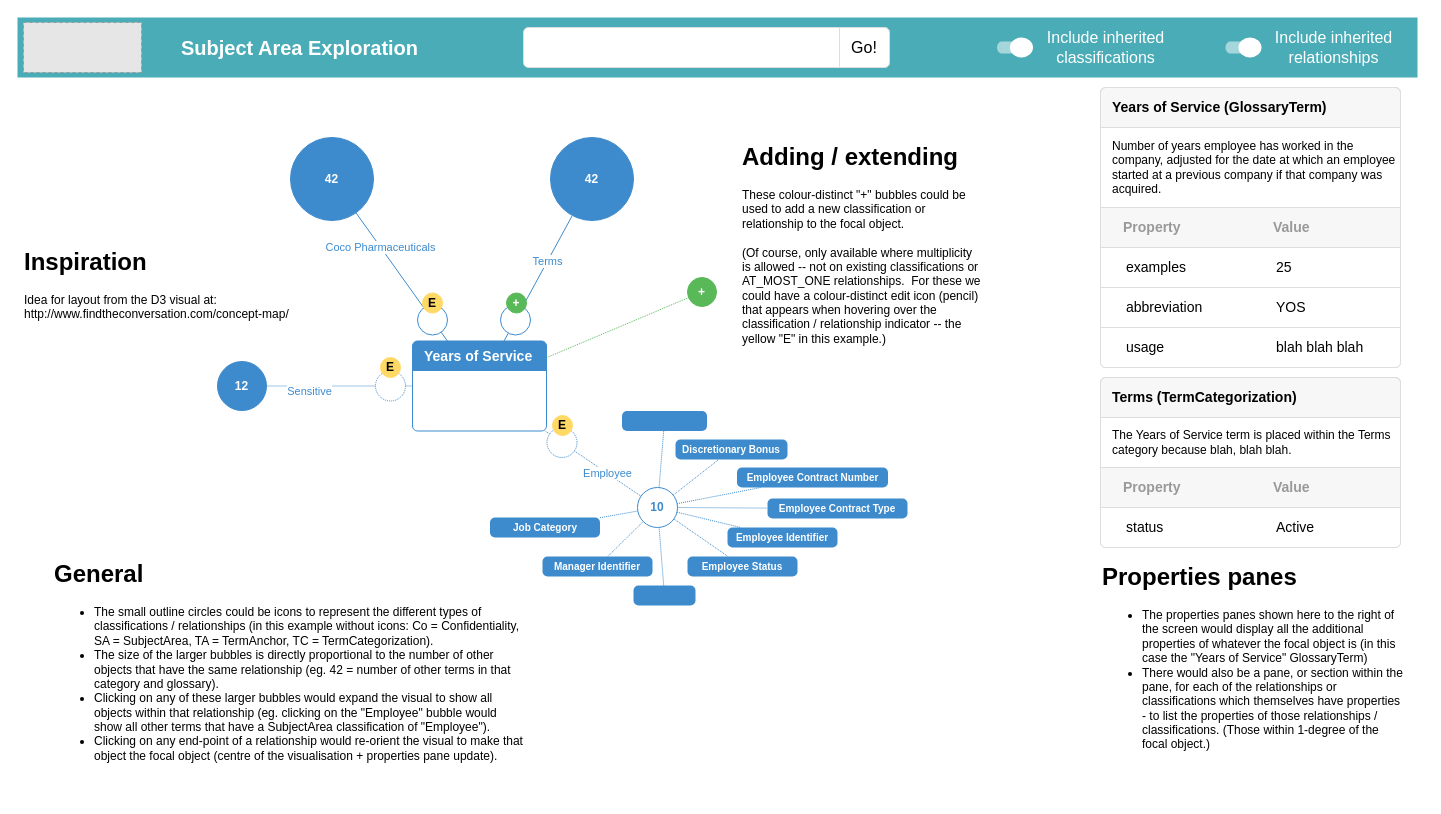
Some shapes in this 1441 by 814 pixel diagram are drawn without their labels. Grey dashed boxes stand in for pictures. Here are the shapes that lost their labels. From the top down, the centre of each, then its label:
At [706,47]: "Search...".
At [432,319]: "TA".
At [515,319]: "TC".
At [390,385]: "Co".
At [479,385]: "Number of years employee worked in the company".
At [664,420]: "Annual Salary".
At [561,442]: "SA".
At [664,595]: "Job Level".
